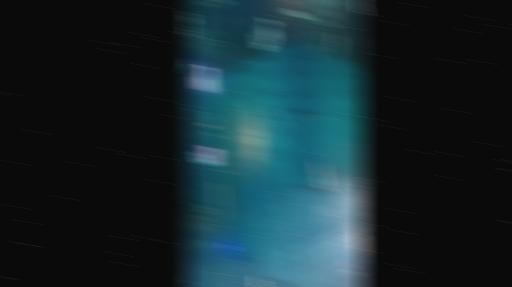Fish: (255, 19, 276, 50), (315, 160, 330, 191), (318, 201, 335, 222), (351, 227, 364, 253), (285, 9, 312, 19), (329, 171, 342, 189), (304, 260, 315, 281), (283, 246, 296, 262), (294, 238, 305, 253), (332, 35, 340, 52), (355, 0, 365, 13), (185, 62, 195, 74), (297, 113, 305, 126), (280, 117, 293, 125), (294, 108, 313, 113), (271, 215, 284, 222), (263, 114, 274, 122), (271, 110, 282, 117), (353, 38, 364, 45), (265, 89, 276, 96), (257, 124, 268, 131), (283, 127, 291, 136), (345, 260, 353, 269), (266, 219, 277, 225), (298, 185, 319, 188), (261, 101, 271, 107), (257, 106, 267, 112), (261, 113, 268, 120), (275, 233, 283, 239), (261, 224, 270, 228), (183, 280, 192, 284), (304, 216, 313, 218), (261, 278, 263, 286), (310, 189, 313, 194)
